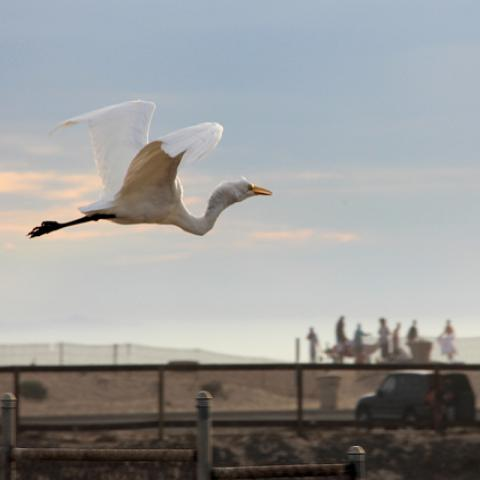car: (356, 368, 477, 433)
